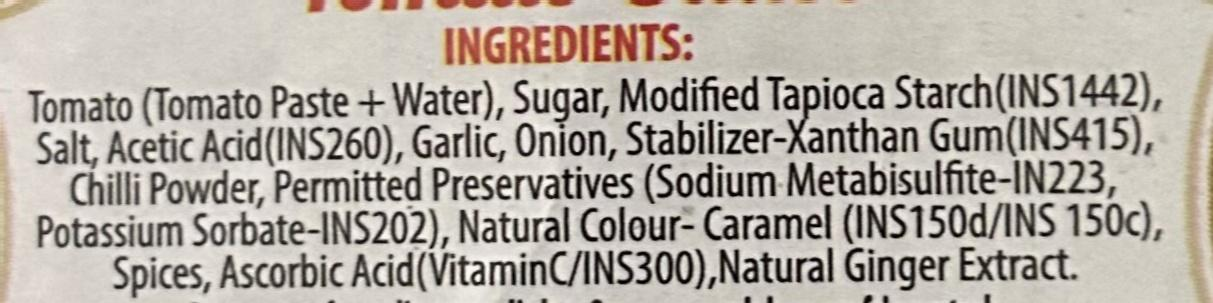ingredients: (18, 17, 1212, 290)
